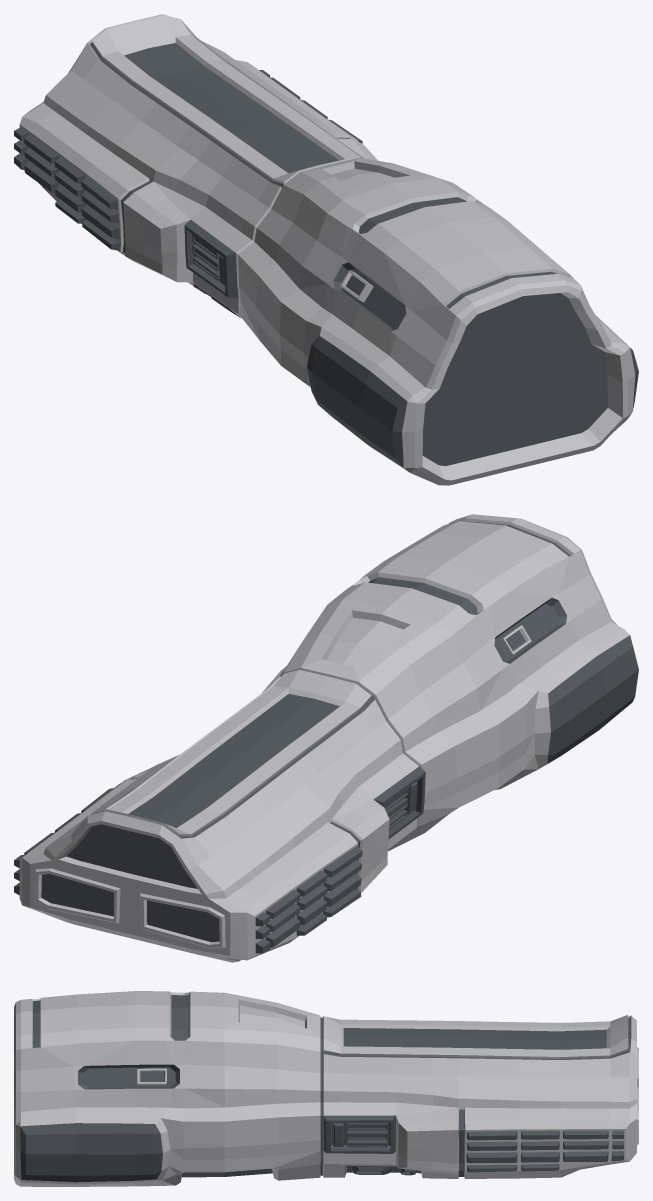
The model's file is Dropship_03_.fbx.
3 renders of one model, top to bottom at view 1: azimuth 30°, elevation 25°; view 2: azimuth 150°, elevation 25°; view 3: azimuth 270°, elevation 25°, orthographic. The views are drawn at different scales.
Parts seen in each view (by area): view 1: Dropship_03_; view 2: Dropship_03_; view 3: Dropship_03_.
Part boxes in pixels (bbox=[...]): Dropship_03_: bbox=[14, 14, 638, 485]; Dropship_03_: bbox=[14, 514, 638, 962]; Dropship_03_: bbox=[14, 991, 638, 1186].
Size of the model in its own units: 395 by 287 by 1064.
2 materials, 2 textured.
